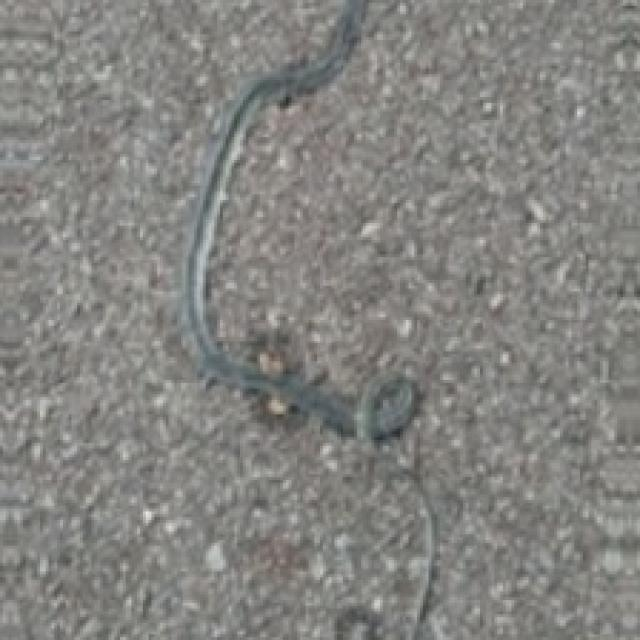paradise tree snake: (186, 0, 637, 637), (183, 0, 420, 440), (291, 454, 431, 637)
